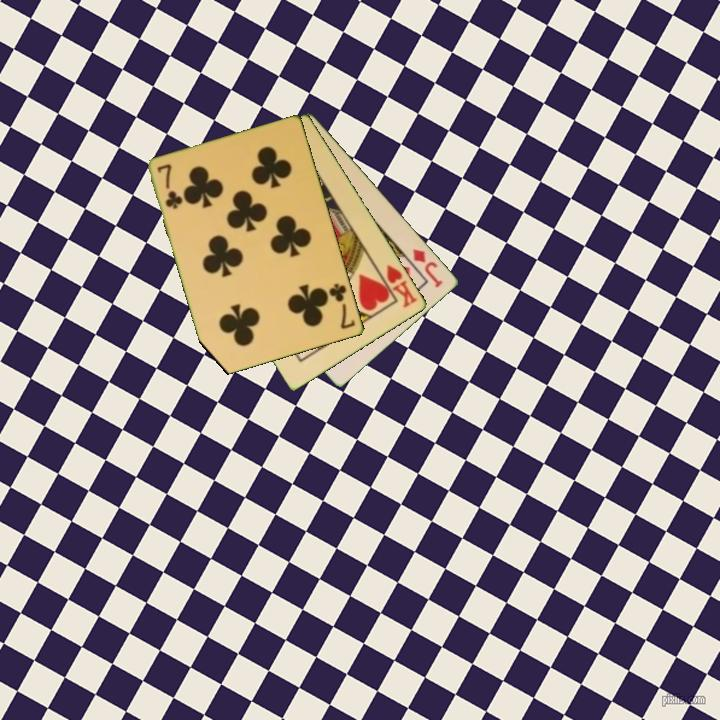7c: (326, 280, 358, 332), (154, 161, 185, 212)
Jd: (409, 245, 446, 291)
Kh: (374, 261, 421, 311)
